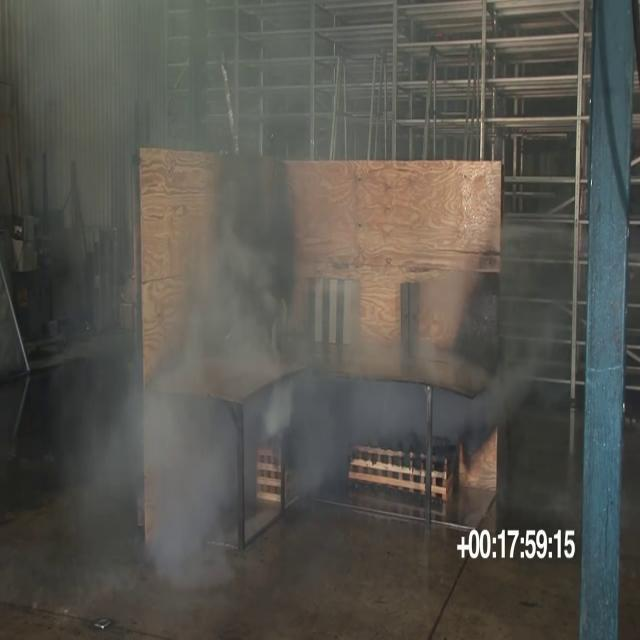Smoke: (100, 302, 314, 568), (177, 193, 276, 432)
